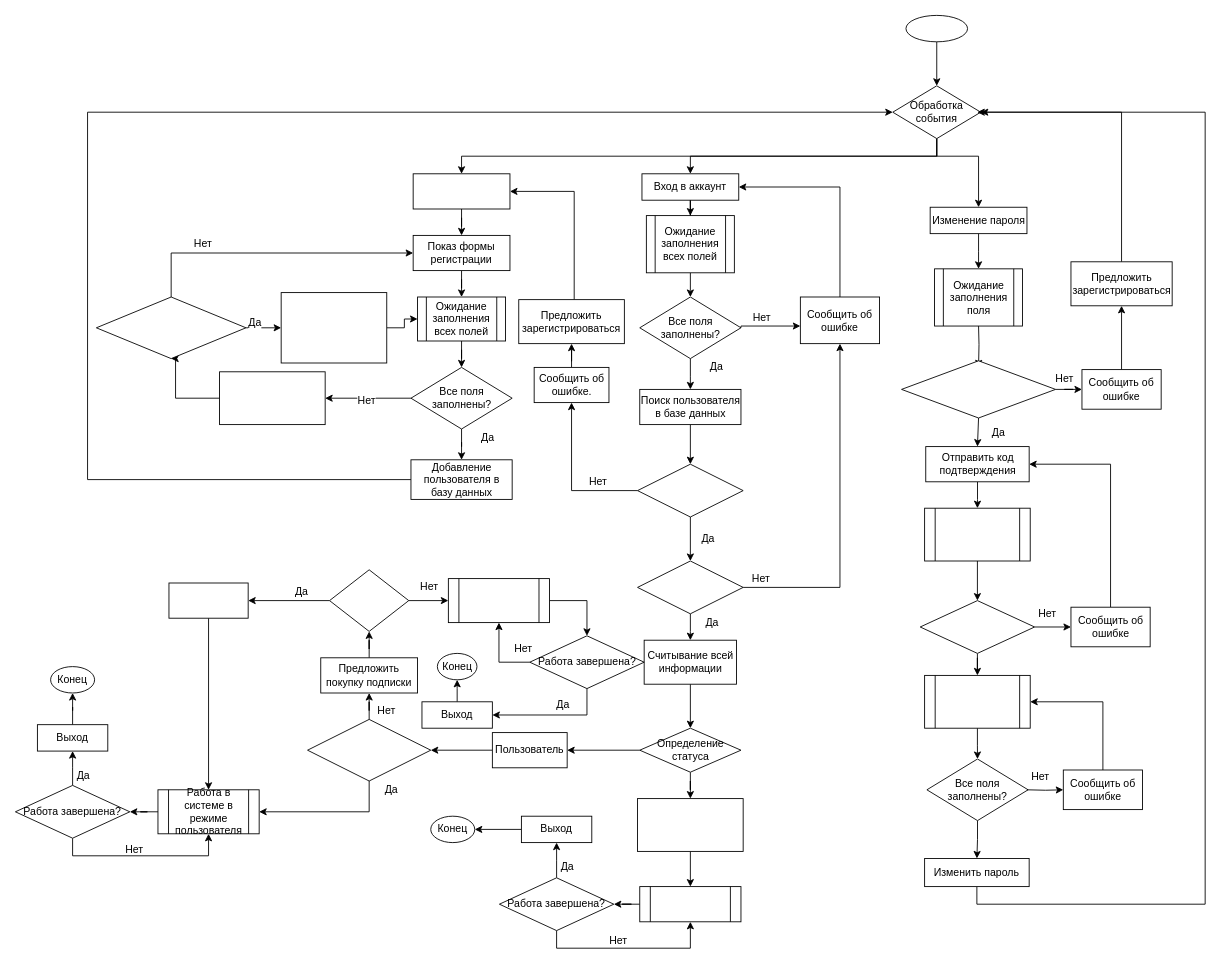
Some shapes in this 1228 by 971 pixel diagram are drawn without their labels. The centre of each missing label's shape, as x and y in pixels:
"Администратор, Системный администратор" goes at (690,824).
"Была ли введена уже какая-либо информация?" goes at (170,327).
"Вывод сообщения об ошибке" goes at (272,398).
"Данный пользователь существует?" goes at (978,389).
"Изменения статуса подписки" goes at (208,600).
"Код верный?" goes at (977,626).
"Начало" goes at (936,28).
"Ожидание введения кода" goes at (977,534).
"Ожидание заполнения полей" goes at (977,701).
"Пароль верный?" goes at (690,587).
"Подписка действительна?" goes at (369,750).
"Покупка совершена?" goes at (369,600).
"Пользователь найден?" goes at (690,490).
"Работа в системе" goes at (690,904).
"Работа в системе в демо-режиме" goes at (498,600).
"Создание нового пользователя" goes at (461,191).
"Сохранение уже введённых данных с просьбой заполнения отсутствующих" goes at (333,327).
